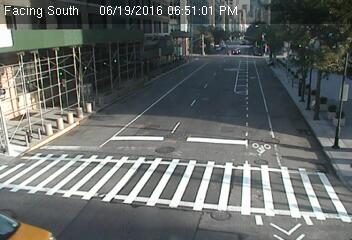neg: (333, 80, 351, 107), (308, 88, 323, 107)
